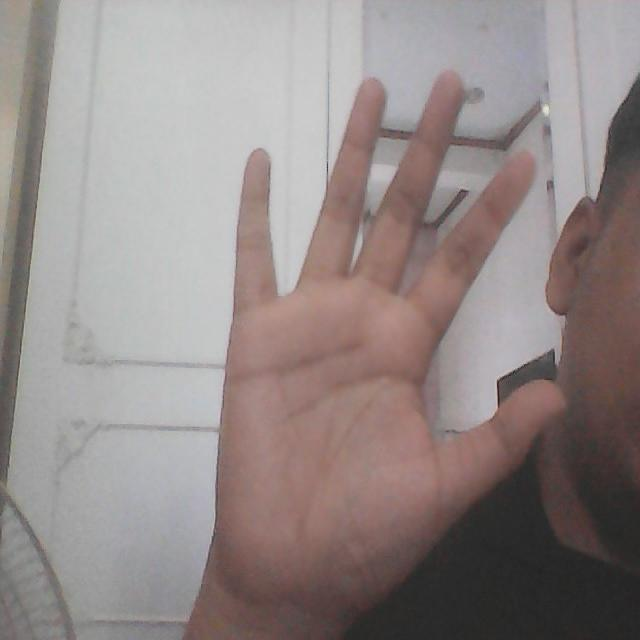hand: (210, 63, 568, 640)
